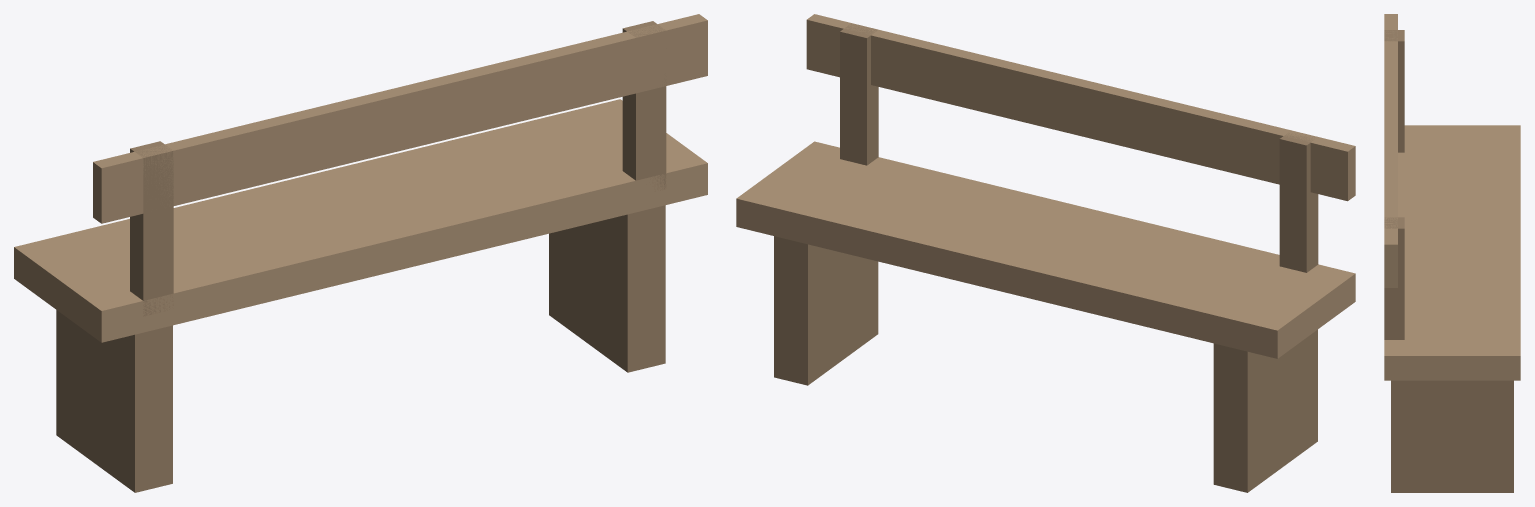
Rendered from bench.glb.
3 renders of one model, left to right at view 1: azimuth 30°, elevation 25°; view 2: azimuth 150°, elevation 25°; view 3: azimuth 270°, elevation 25°, orthographic. The views are drawn at different scales.
Parts seen in each view (by area): view 1: bench; view 2: bench; view 3: bench.
Boxes of the visible parts, x1,y1,x2,y2 form: bench: [14, 14, 707, 492]; bench: [736, 14, 1355, 492]; bench: [1384, 14, 1520, 492].
Bounding box in the file's own units: 1.6 × 0.85 × 0.4.
